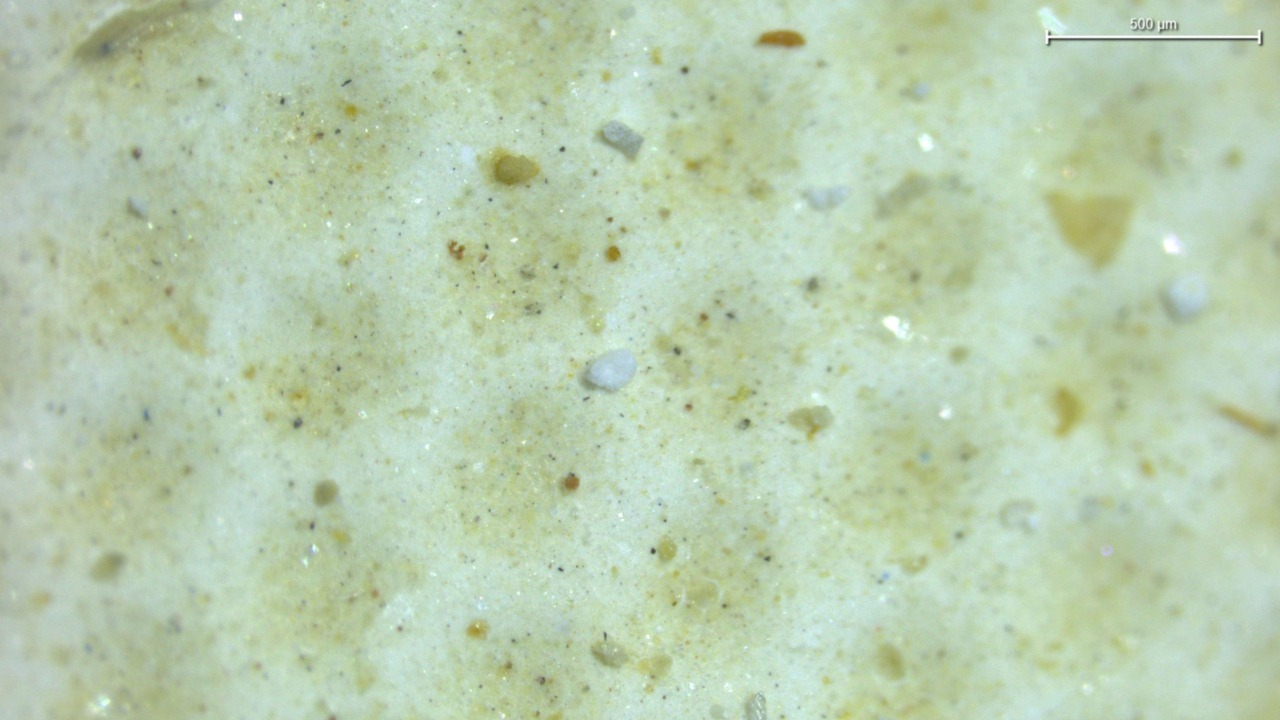microplastic_fragment: (586, 349, 637, 391), (598, 120, 644, 158)
